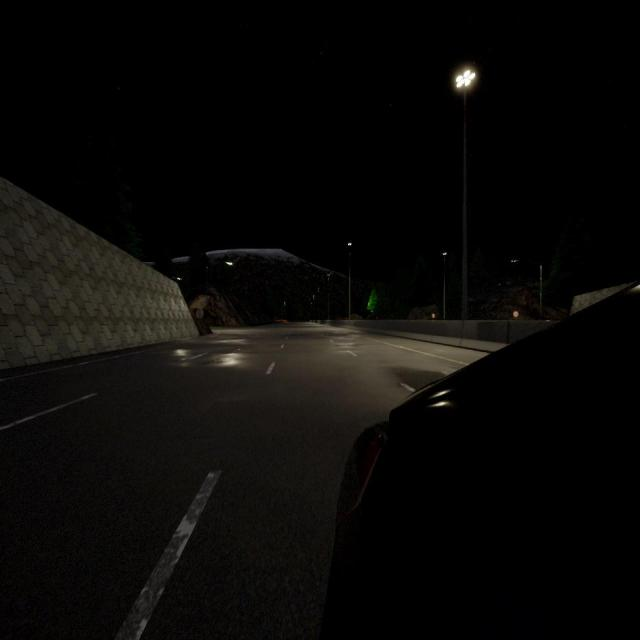Traffic_Signs: (196, 309, 204, 319), (512, 311, 518, 317), (432, 313, 436, 318)
Vehicle: (321, 284, 639, 638)
